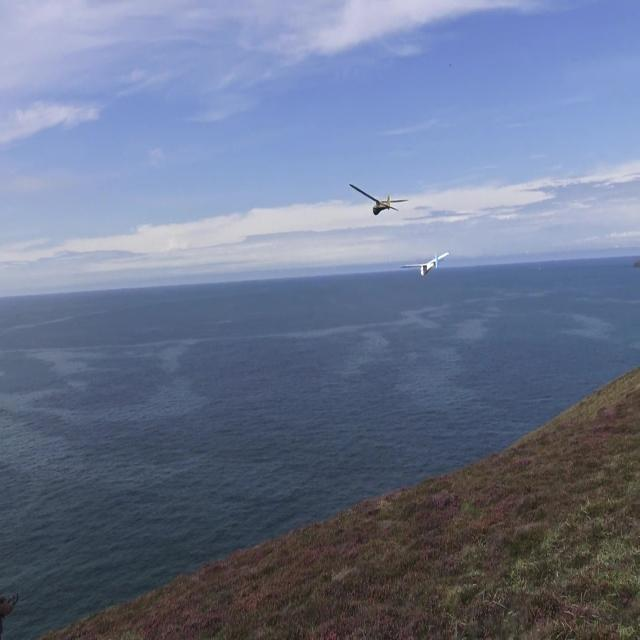iha: (349, 177, 409, 210), (400, 246, 451, 271)
